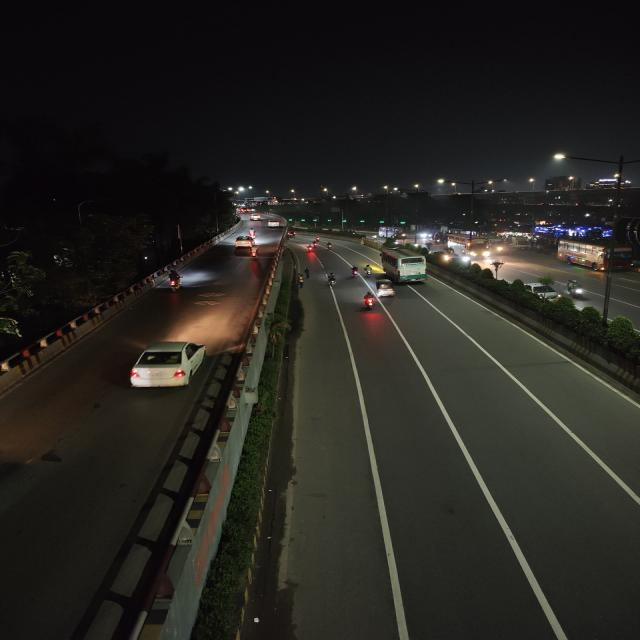bus: (556, 236, 636, 275), (379, 248, 431, 286), (447, 232, 487, 260), (378, 223, 408, 241)
car: (114, 330, 214, 398), (516, 279, 561, 306), (234, 236, 256, 250), (266, 218, 282, 228), (248, 214, 263, 222)
cng: (376, 279, 394, 300)
motorcycle: (563, 275, 591, 303), (162, 267, 186, 294), (359, 291, 378, 311), (347, 264, 363, 279), (325, 271, 339, 288), (362, 261, 374, 280), (303, 242, 317, 255), (247, 227, 259, 239), (324, 240, 335, 251), (250, 246, 258, 260), (314, 235, 320, 242), (313, 241, 319, 247)
pedestrian: (301, 264, 315, 281), (296, 276, 306, 289), (296, 270, 302, 282)
truck: (510, 234, 530, 251)
